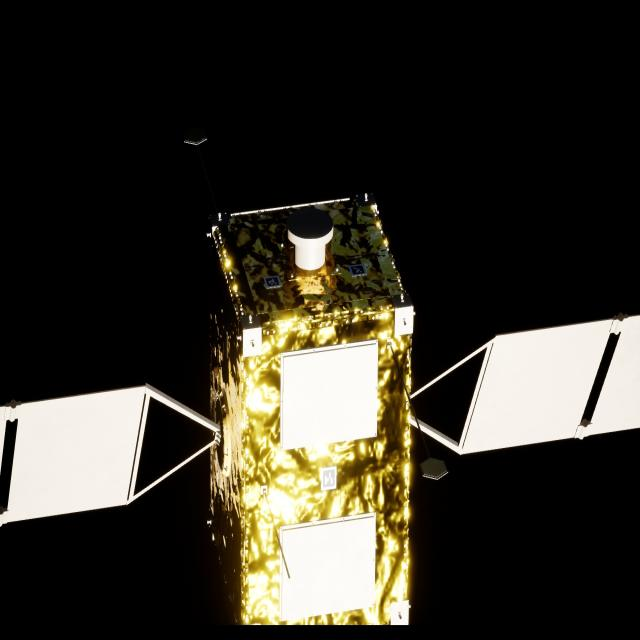satellite: (0, 194, 640, 627)
